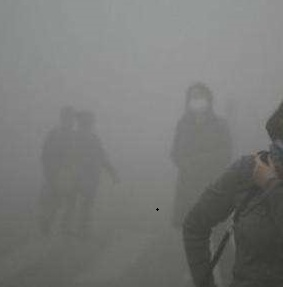person: (182, 107, 281, 286), (170, 83, 236, 233), (69, 110, 119, 238), (41, 107, 74, 234)
